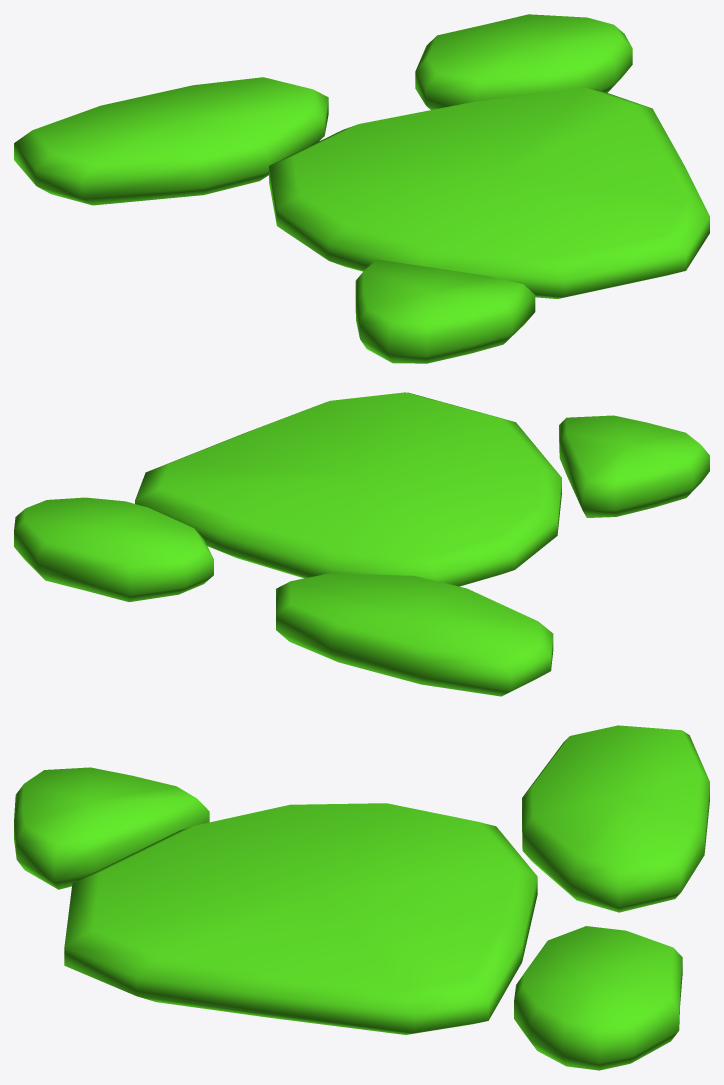
File: Bstone4.fbx
3 renders of one model, top to bottom at view 1: azimuth 30°, elevation 25°; view 2: azimuth 150°, elevation 25°; view 3: azimuth 270°, elevation 25°, orthographic. The views are drawn at different scales.
Visible parts, largest first — view 1: 4_set_stones_lowpoly.001; view 2: 4_set_stones_lowpoly.001; view 3: 4_set_stones_lowpoly.001.
Boxes of the visible parts, left/top/right/bottom form: 4_set_stones_lowpoly.001: left=14, top=14, right=709, bottom=363; 4_set_stones_lowpoly.001: left=14, top=392, right=709, bottom=696; 4_set_stones_lowpoly.001: left=14, top=725, right=709, bottom=1070.
Bounding box in the file's own units: 214 × 14.26 × 200.
